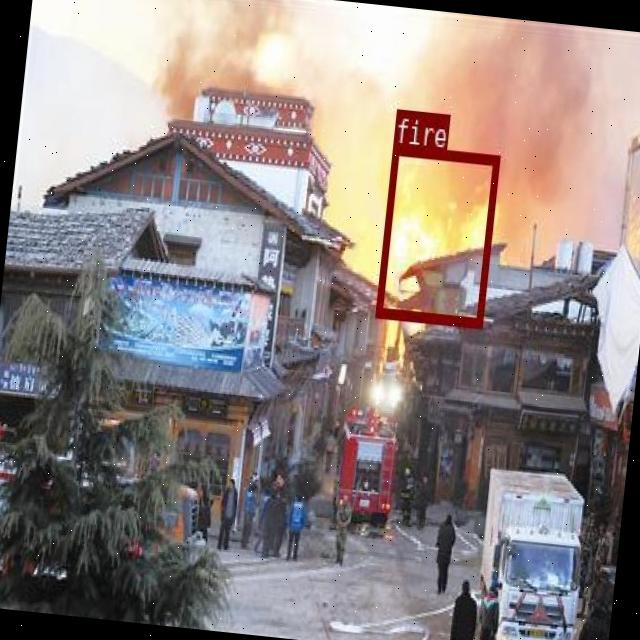fire: (374, 144, 499, 326)
